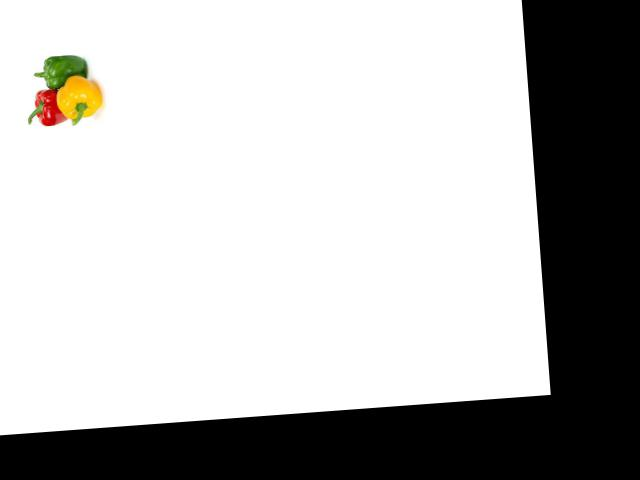bell_pepper: (21, 82, 74, 134)
